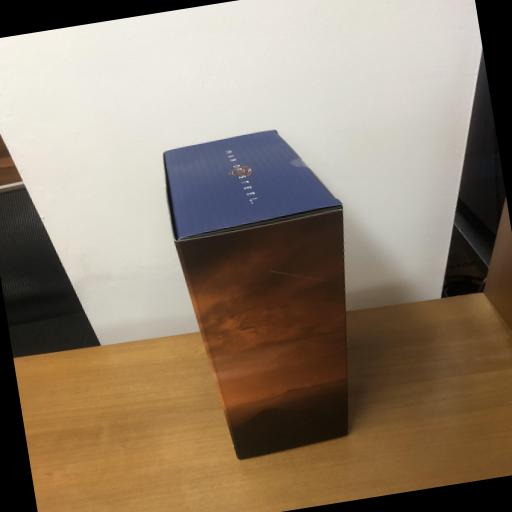superman: (162, 120, 380, 464)
